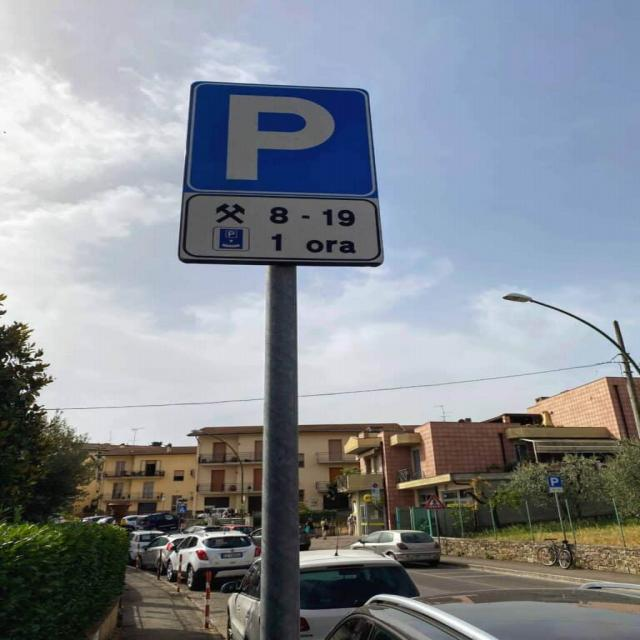parking: (172, 77, 390, 200)
